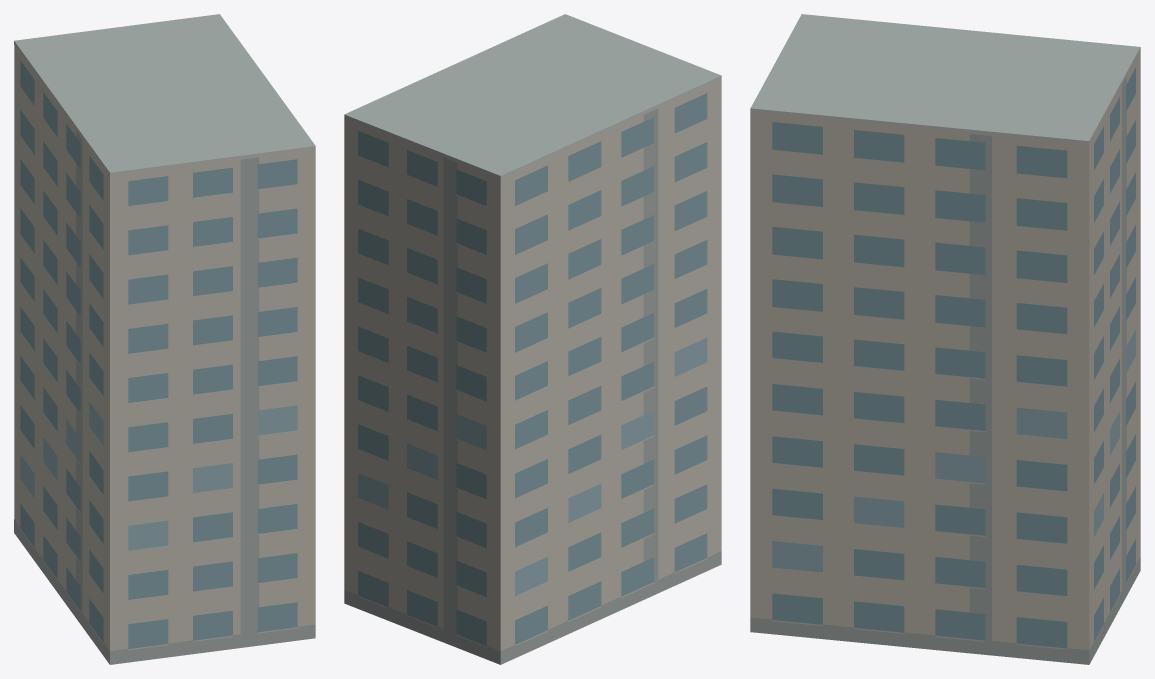
File: residential-fe7c340d-3a5e-427d-b2a7-9715efbe7849.glb
3 views of the same model, side by side, from view 1: azimuth 30°, elevation 25°; view 2: azimuth 150°, elevation 25°; view 3: azimuth 270°, elevation 25° (orthographic). The views are drawn at different scales.
Parts seen in each view (by area): view 1: residential-fe7c340d-3a5e-427d-b2a7-9715efbe7849.tmp; view 2: residential-fe7c340d-3a5e-427d-b2a7-9715efbe7849.tmp; view 3: residential-fe7c340d-3a5e-427d-b2a7-9715efbe7849.tmp.
Boxes of the visible parts, x1,y1,x2,y2 form: residential-fe7c340d-3a5e-427d-b2a7-9715efbe7849.tmp: [14, 14, 315, 664]; residential-fe7c340d-3a5e-427d-b2a7-9715efbe7849.tmp: [344, 14, 721, 664]; residential-fe7c340d-3a5e-427d-b2a7-9715efbe7849.tmp: [750, 14, 1140, 664].
Size of the model in its own units: 15.63 by 30 by 20.26.
